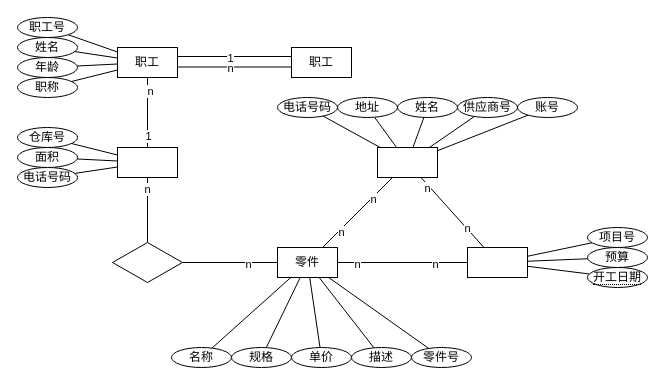
This 665x385 diagram has some shape labels left out. The centre of each missing label's shape, as x and y in pixels:
仓库: point 147,162
供应商: point 407,162
库存量: point 147,262
项目: point 497,262
